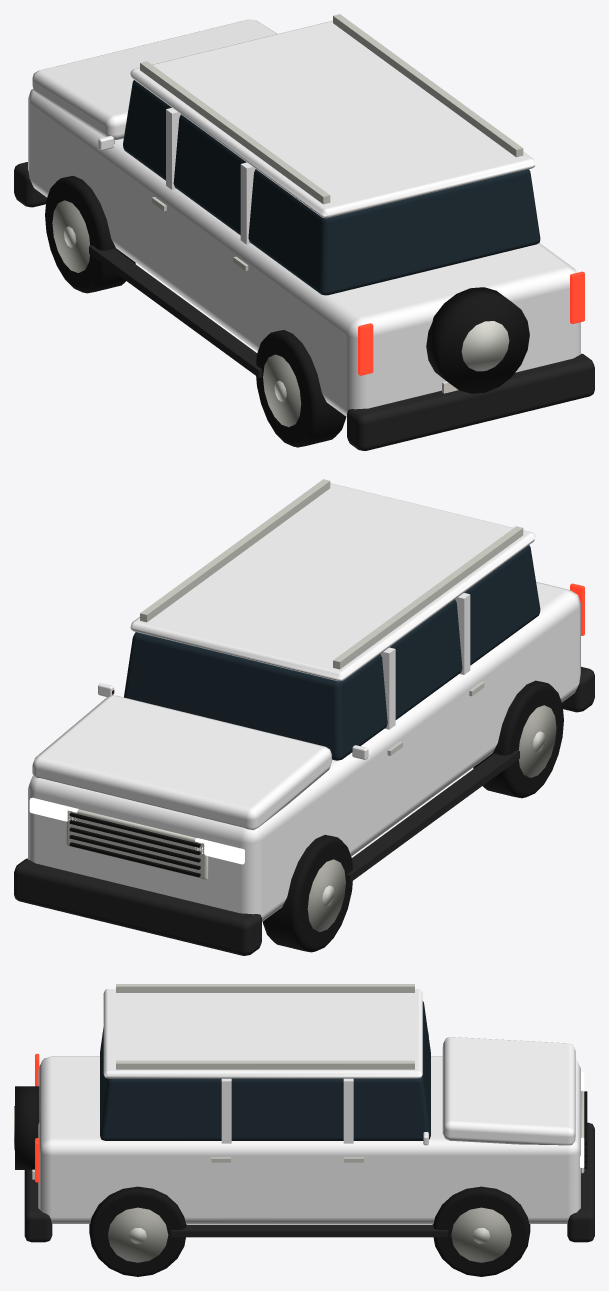
Rendered from suv.glb.
3 renders of one model, top to bottom at view 1: azimuth 30°, elevation 25°; view 2: azimuth 150°, elevation 25°; view 3: azimuth 270°, elevation 25°, orthographic. The views are drawn at different scales.
Visible parts, largest first — view 1: suv; view 2: suv; view 3: suv.
Part boxes in pixels (left/top/right/bottom): suv: left=14, top=14, right=594, bottom=450; suv: left=14, top=479, right=594, bottom=955; suv: left=14, top=984, right=594, bottom=1276.
Size of the model in its own units: 2.28 by 2.04 by 5.25.
